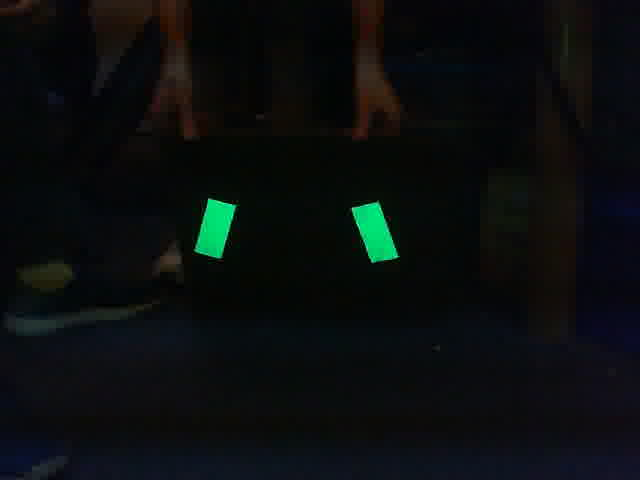target: (192, 196, 400, 265)
